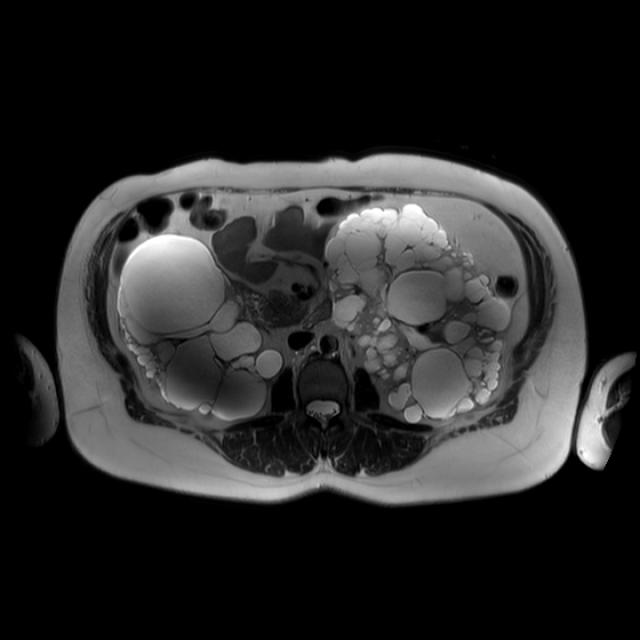sag: (115, 235, 282, 420)
sol: (327, 204, 512, 423)
